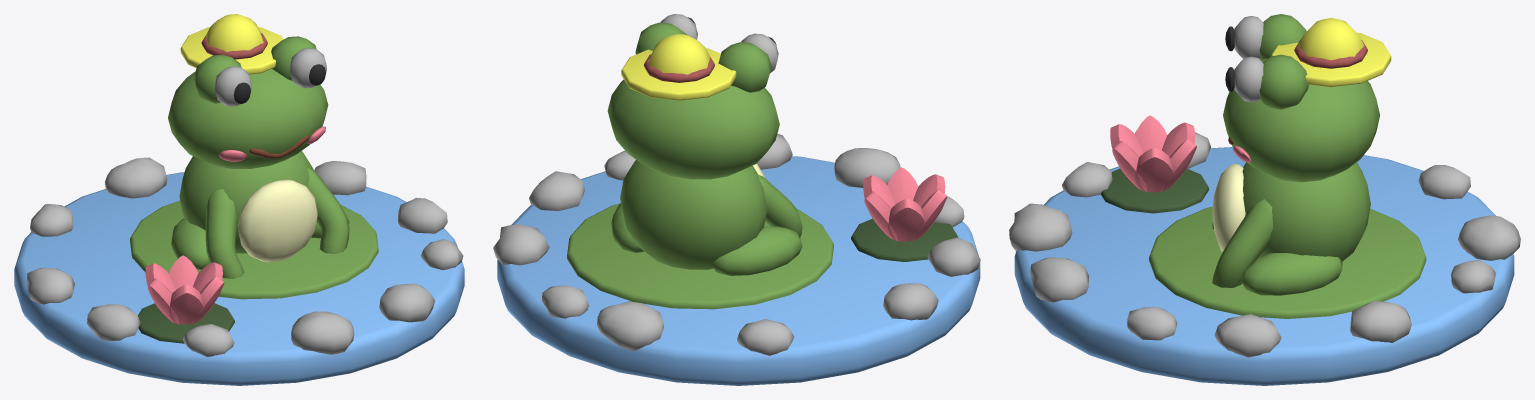
Rendered from FrogPond.fbx.
3 views of the same model, side by side, from view 1: azimuth 30°, elevation 25°; view 2: azimuth 150°, elevation 25°; view 3: azimuth 270°, elevation 25° (orthographic). The views are drawn at different scales.
Parts seen in each view (by area): view 1: S_FrogPond, M_FrogPond, D_FrogPond_9, D_FrogPond_4, D_FrogPond_10, D_FrogPond_7, D_FrogPond_6, D_FrogPond_1, D_FrogPond_2, D_FrogPond_8, D_FrogPond_5, D_FrogPond_13 (+5 smaller); view 2: S_FrogPond, M_FrogPond, D_FrogPond_4, D_FrogPond_9, D_FrogPond_13, D_FrogPond_2, D_FrogPond_1, D_FrogPond_6, D_FrogPond_7, D_FrogPond_5, D_FrogPond_3, D_FrogPond_12 (+6 smaller); view 3: S_FrogPond, M_FrogPond, D_FrogPond_9, D_FrogPond_4, D_FrogPond_10, D_FrogPond_12, D_FrogPond_1, D_FrogPond_2, D_FrogPond_5, D_FrogPond_11, D_FrogPond_8, D_FrogPond_13 (+5 smaller).
Part boxes in pixels (<box>): S_FrogPond: <box>14,14,464,385</box>; M_FrogPond: <box>168,69,349,278</box>; D_FrogPond_9: <box>291,311,354,354</box>; D_FrogPond_4: <box>105,157,167,198</box>; D_FrogPond_10: <box>379,283,435,322</box>; D_FrogPond_7: <box>87,304,140,340</box>; D_FrogPond_6: <box>26,267,74,304</box>; D_FrogPond_1: <box>398,197,447,233</box>; D_FrogPond_2: <box>314,161,366,195</box>; D_FrogPond_8: <box>183,324,234,356</box>; D_FrogPond_5: <box>30,204,73,236</box>; D_FrogPond_13: <box>193,54,241,103</box>; S_FrogPond: <box>497,34,980,385</box>; M_FrogPond: <box>607,79,802,269</box>; D_FrogPond_4: <box>597,301,663,351</box>; D_FrogPond_9: <box>834,148,900,187</box>; D_FrogPond_13: <box>718,42,771,92</box>; D_FrogPond_2: <box>493,224,549,265</box>; D_FrogPond_1: <box>529,171,584,210</box>; D_FrogPond_6: <box>883,283,938,320</box>; D_FrogPond_7: <box>927,237,980,276</box>; D_FrogPond_5: <box>737,319,794,355</box>; D_FrogPond_3: <box>541,285,589,318</box>; D_FrogPond_12: <box>635,22,686,54</box>; S_FrogPond: <box>1014,18,1514,385</box>; M_FrogPond: <box>1212,58,1379,287</box>; D_FrogPond_9: <box>1009,203,1072,251</box>; D_FrogPond_4: <box>1458,215,1520,260</box>; D_FrogPond_10: <box>1030,257,1088,302</box>; D_FrogPond_12: <box>1259,54,1308,109</box>; D_FrogPond_1: <box>1214,314,1281,357</box>; D_FrogPond_2: <box>1350,301,1411,342</box>; D_FrogPond_5: <box>1418,165,1470,199</box>; D_FrogPond_11: <box>1127,307,1177,340</box>; D_FrogPond_8: <box>1062,162,1112,197</box>; D_FrogPond_13: <box>1259,14,1306,59</box>.
Size of the model in its own units: 600 by 365 by 610.
